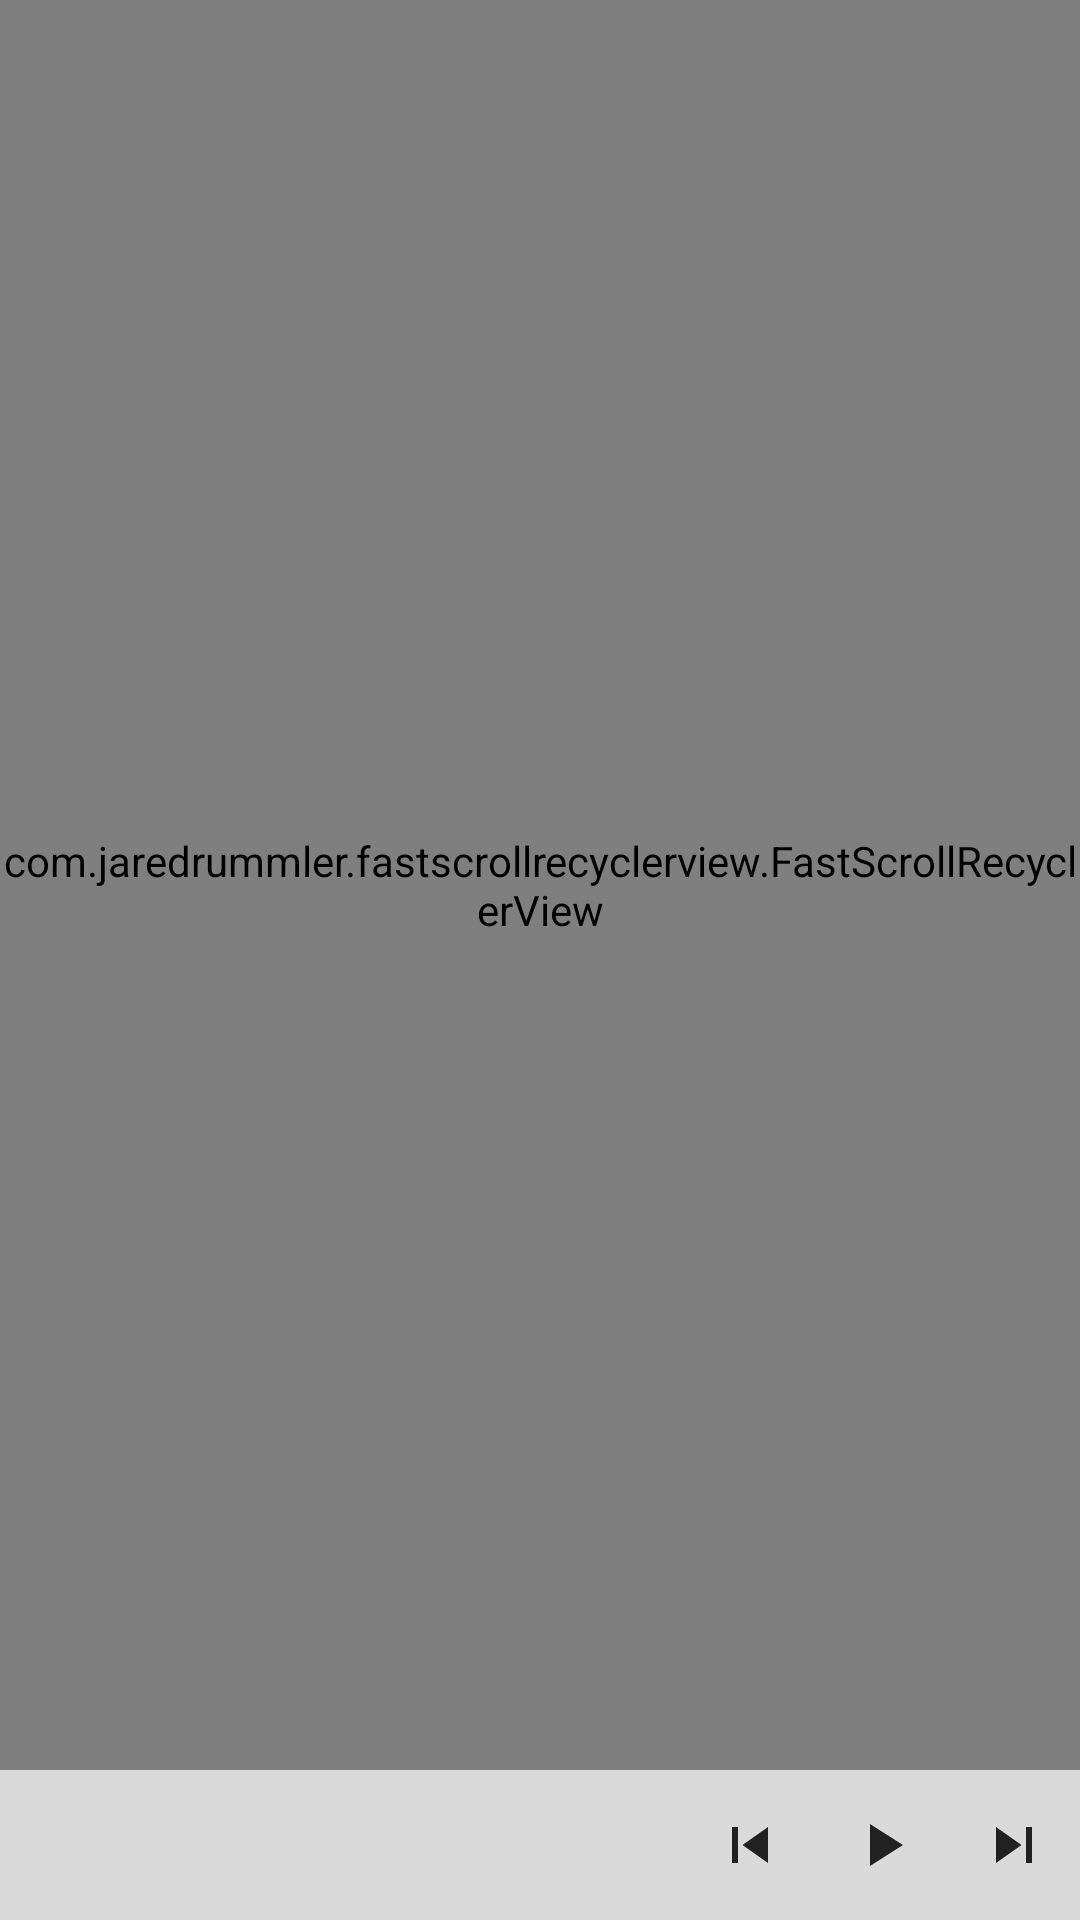

Locate icon controls on the screen. Image size 1080px x 1920px, boxes as (left=x1, top=y1, right=x2, bottom=y2).
play arrow: (left=870, top=1824, right=903, bottom=1866)
skip next: (left=996, top=1827, right=1032, bottom=1863)
skip previous: (left=732, top=1827, right=768, bottom=1863)
